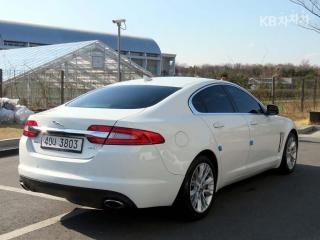0: (69, 139, 74, 149), (48, 136, 52, 146)
3: (73, 139, 79, 149), (59, 137, 64, 148)
4: (44, 135, 49, 146)
8: (64, 138, 69, 148)
plate: (39, 129, 87, 156)
나: (52, 138, 58, 146)
